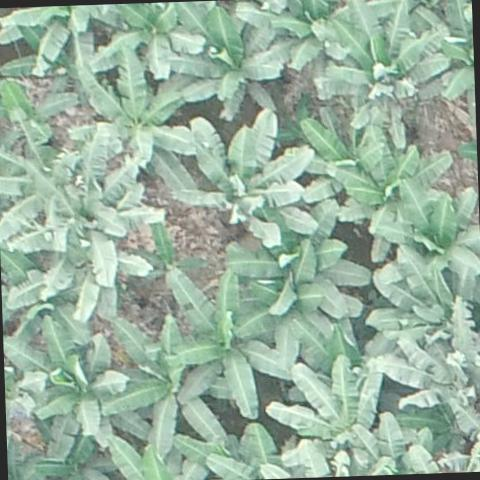Banana-plant: (184, 112, 317, 250), (168, 271, 286, 423), (6, 330, 148, 453), (104, 316, 224, 461), (5, 130, 154, 244), (322, 8, 448, 139), (266, 356, 398, 478), (252, 210, 369, 336), (13, 216, 152, 320), (75, 61, 200, 161), (173, 11, 284, 119), (334, 127, 450, 228), (370, 176, 480, 282), (367, 250, 480, 341), (411, 309, 480, 440), (106, 0, 214, 78), (309, 108, 369, 206), (270, 0, 345, 72)
